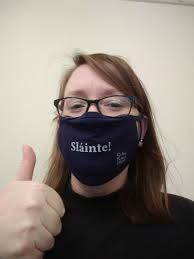with-mask: (56, 60, 152, 187)
